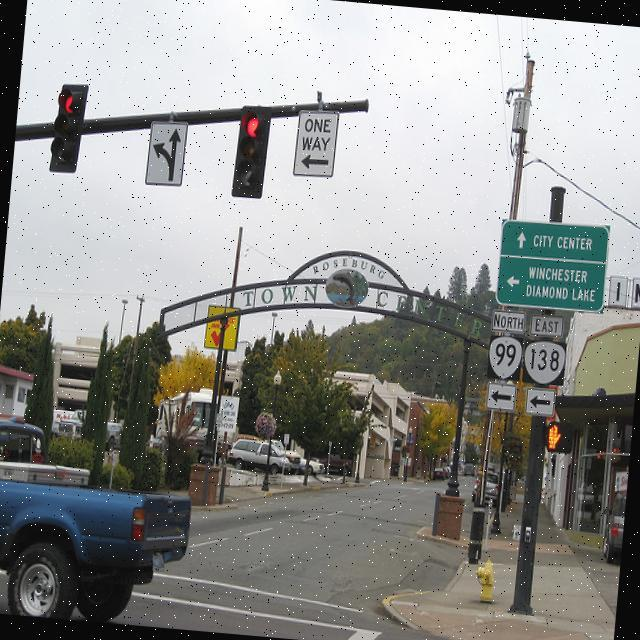fire_hydrant: (472, 554, 496, 606)
